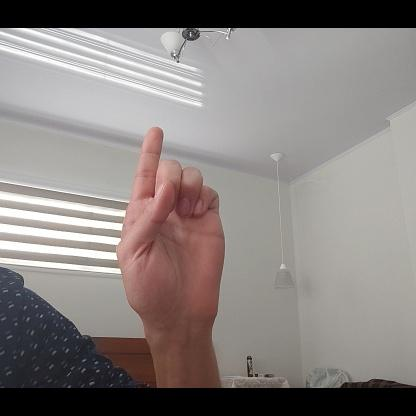D: (117, 125, 225, 323)
